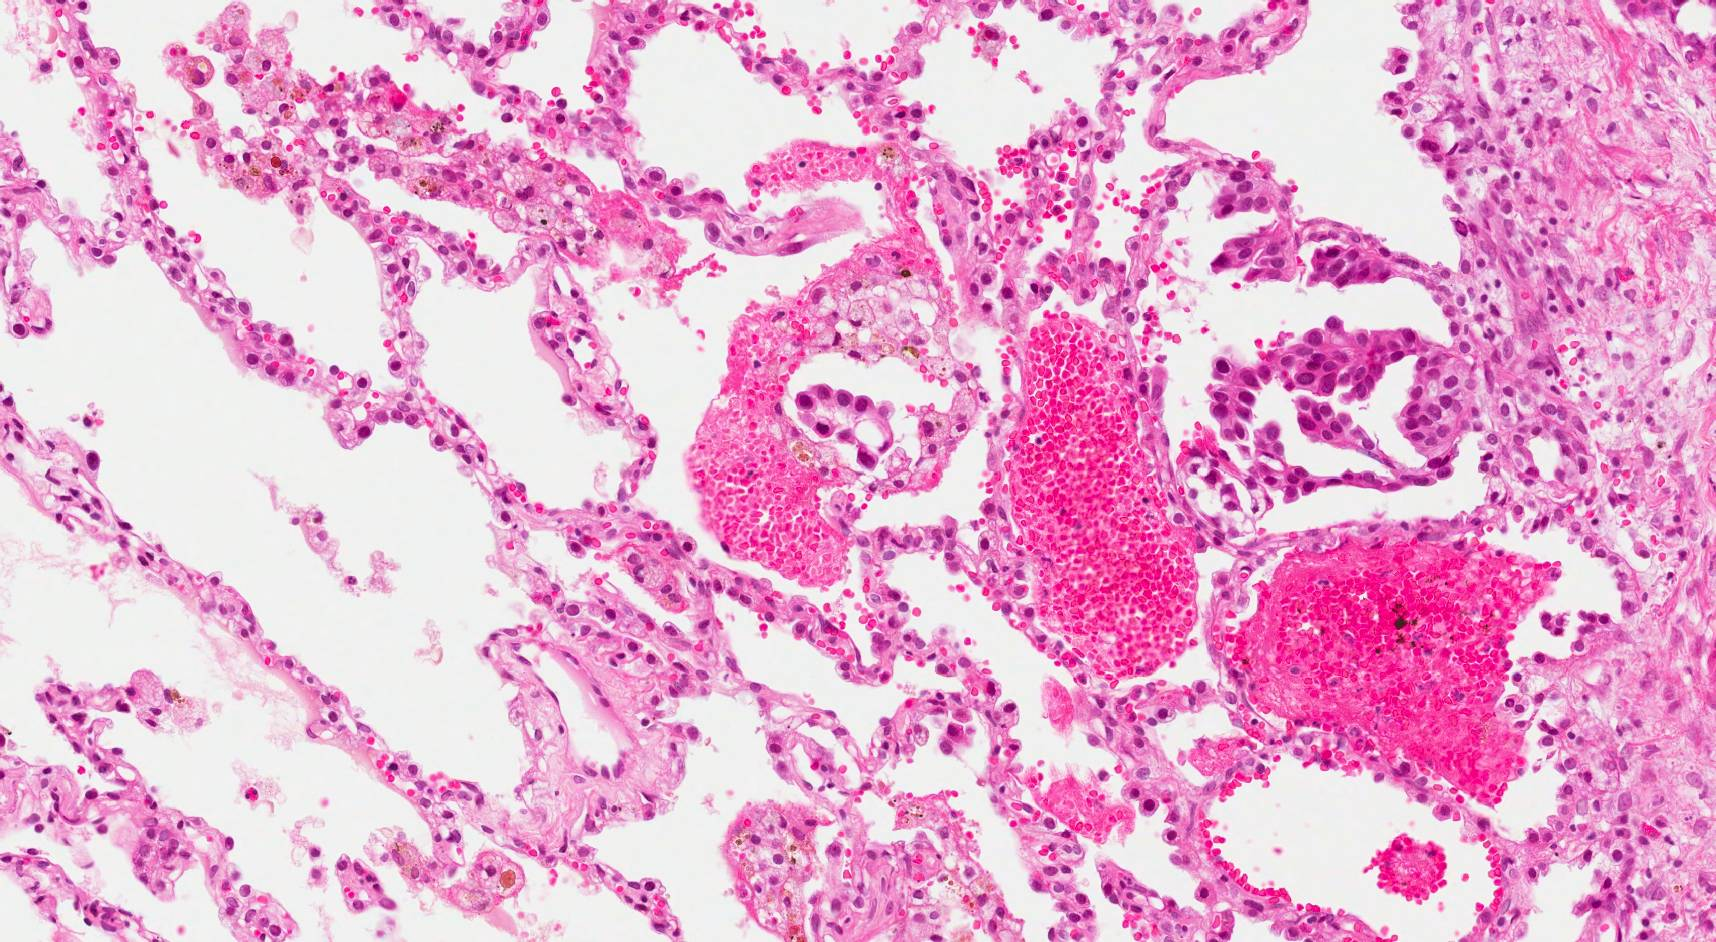stas: (794, 380, 896, 472)
